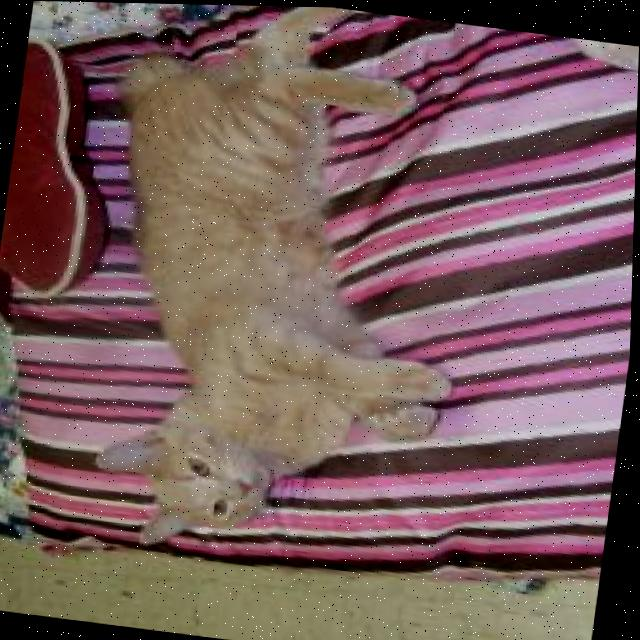American Bobtail: (58, 1, 501, 583)
